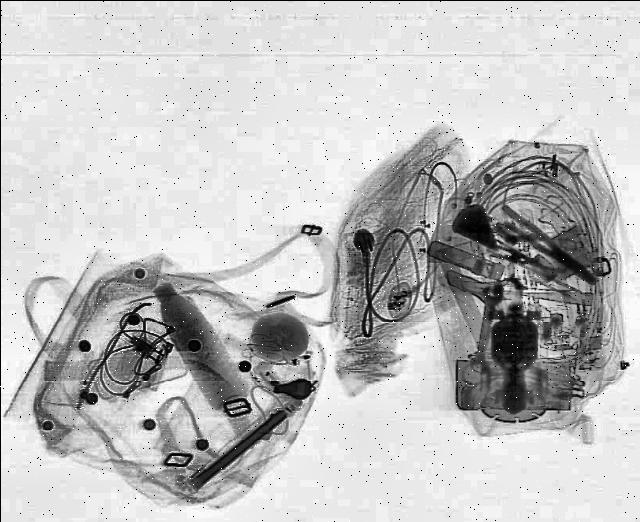Pliers: (488, 200, 608, 288)
